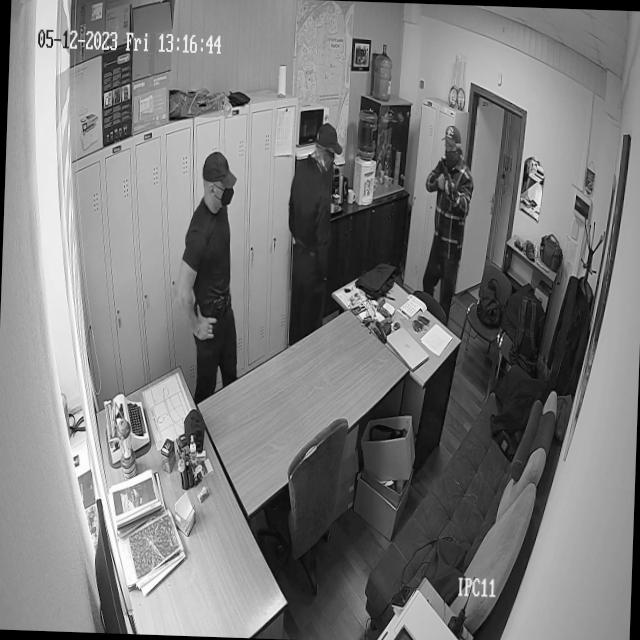gun: (437, 156, 456, 196)
person with a gun: (287, 113, 351, 352), (421, 115, 467, 322)
